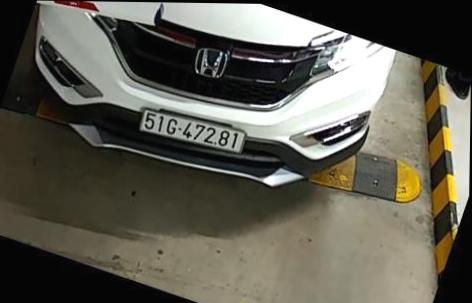License_Plate: (138, 105, 247, 166)
